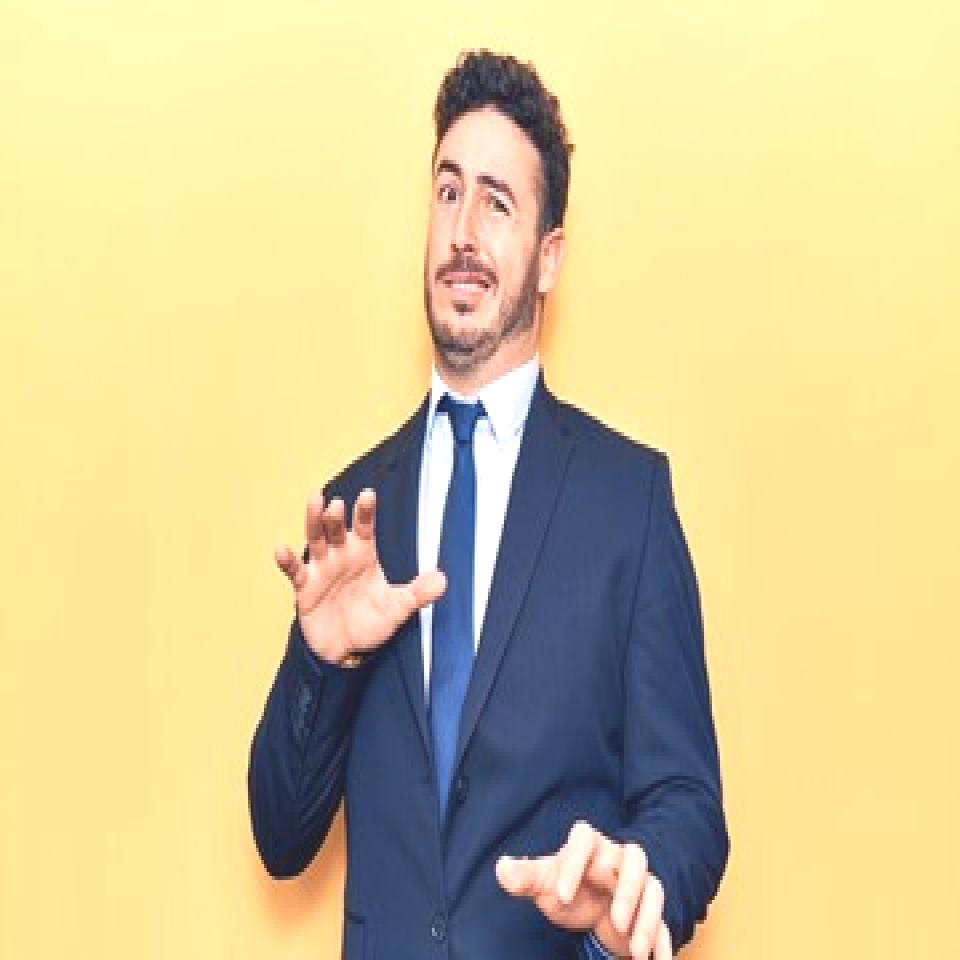Disgust: (425, 112, 540, 364)
